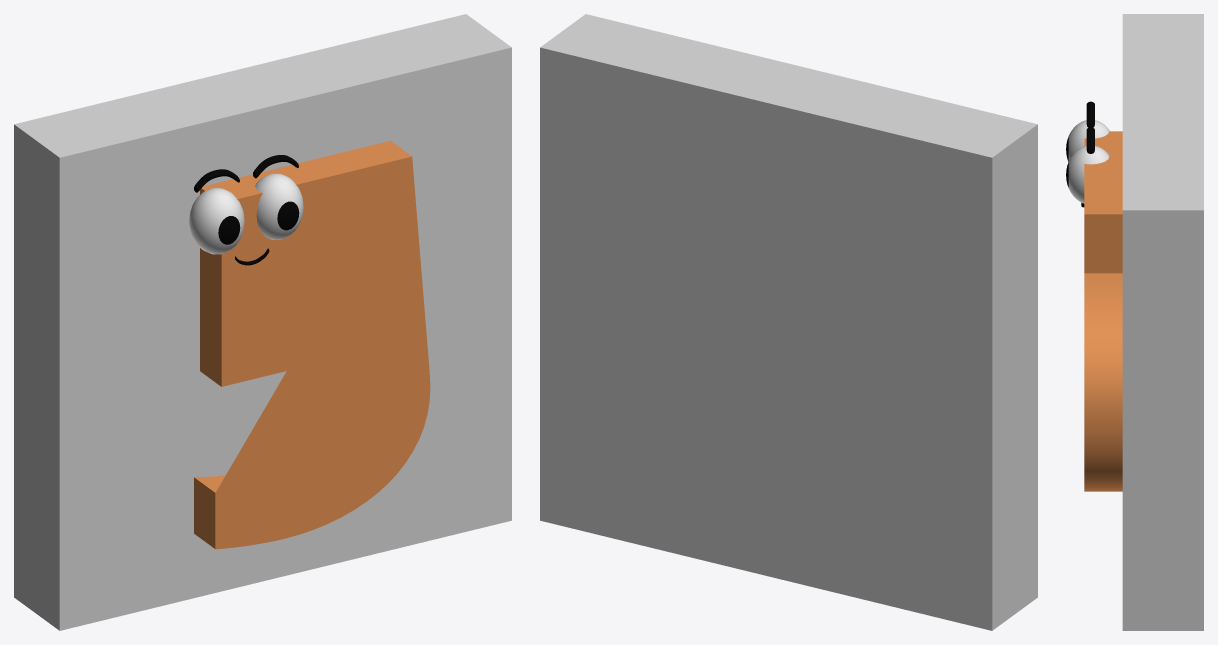
Rendered from add1choice3.fbx.
3 views of the same model, side by side, from view 1: azimuth 30°, elevation 25°; view 2: azimuth 150°, elevation 25°; view 3: azimuth 270°, elevation 25° (orthographic). The views are drawn at different scales.
Parts seen in each view (by area): view 1: fiveMesh2; view 2: fiveMesh2; view 3: fiveMesh2.
Boxes of the visible parts, x1=… form: fiveMesh2: x1=14, y1=14, x2=511, y2=630; fiveMesh2: x1=540, y1=14, x2=1037, y2=630; fiveMesh2: x1=1066, y1=14, x2=1203, y2=630.
Bounding box in the file's own units: 6 × 6 × 1.78.
